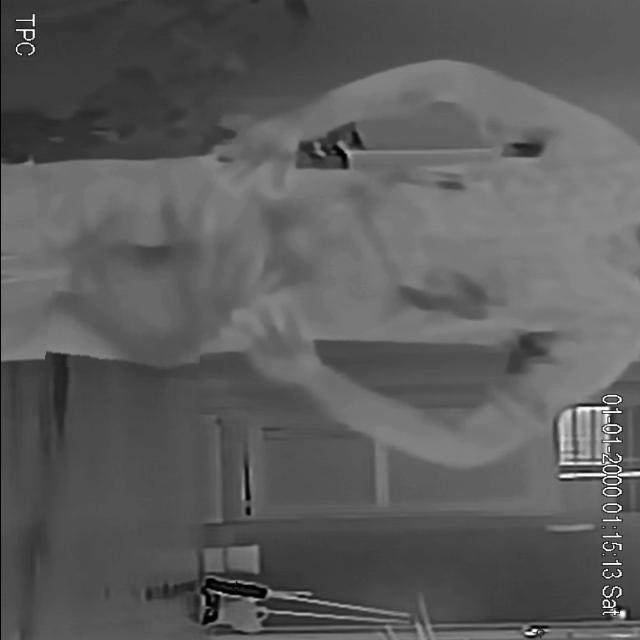Weapon: (45, 294, 202, 377)
